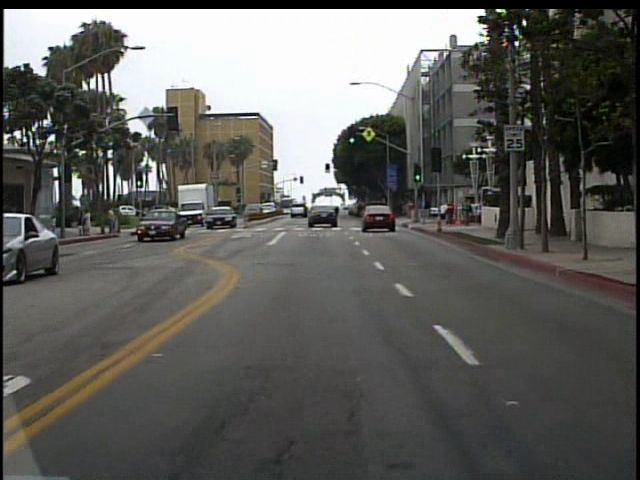person: (108, 204, 121, 238)
